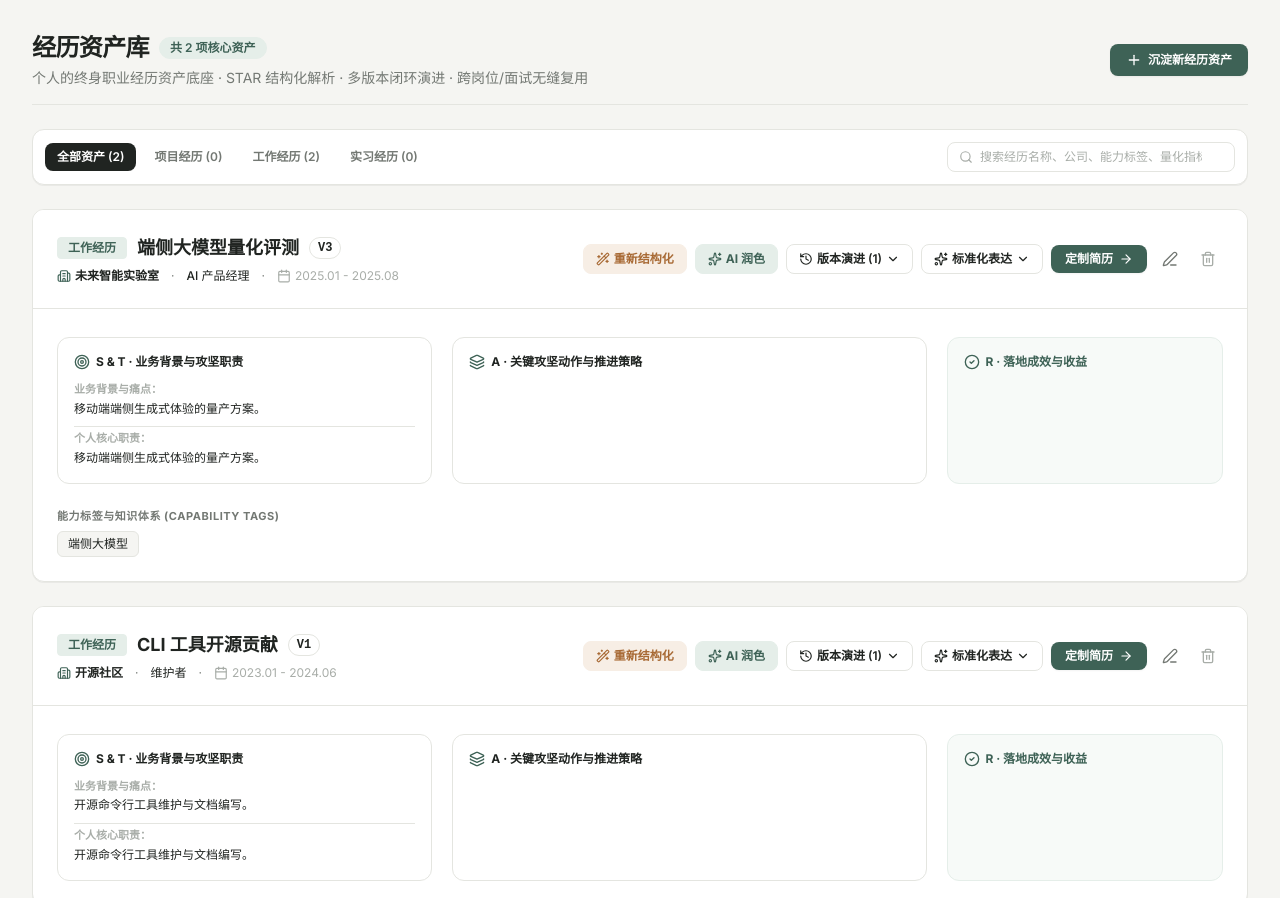
T-M1-2 版本明细懒加载（N+1→1） › 首屏不拉 card_versions，展开「版本演进」面板才按卡请求
Expected: the heading "端侧大模型量化评测" is shown, left=137, top=234, right=299, bottom=262
Expected: the heading "CLI 工具开源贡献" is shown, left=137, top=631, right=278, bottom=659
Click the button "版本演进 (1)" in the row of "2025.01 - 2025.08".
click(849, 259)  # box left=786, top=244, right=913, bottom=274
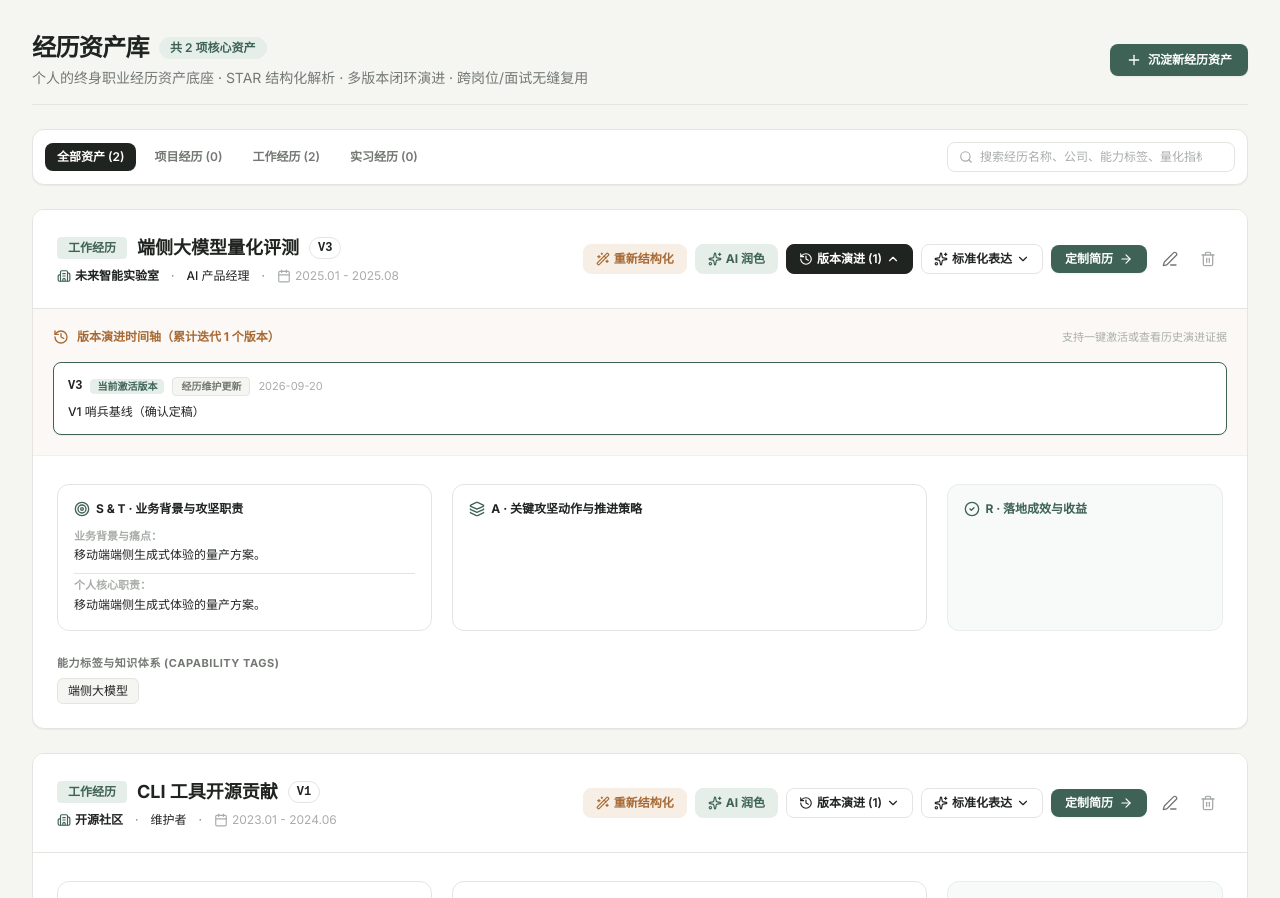
Expected: the text "V1 哨兵基线（确认定稿）" is shown, left=68, top=404, right=205, bottom=419
